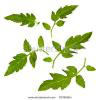Tomato leaf: (37, 58, 91, 95), (4, 35, 47, 77), (44, 3, 81, 46), (52, 30, 91, 66), (2, 11, 42, 30)
